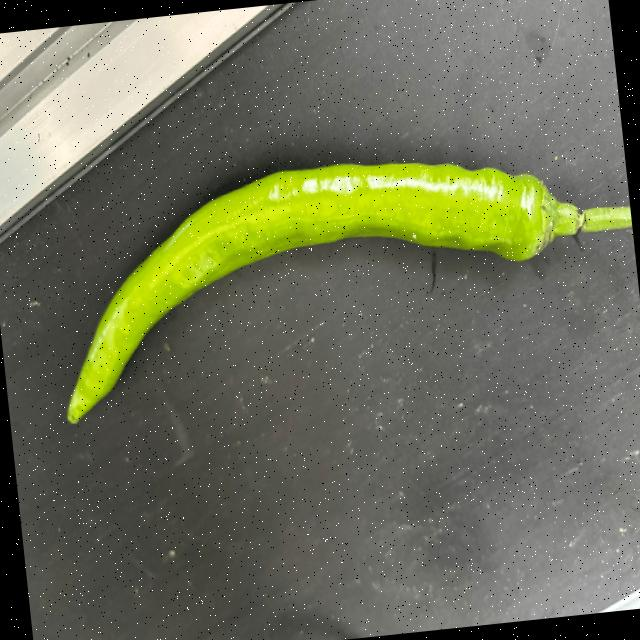chili: (64, 158, 554, 426)
